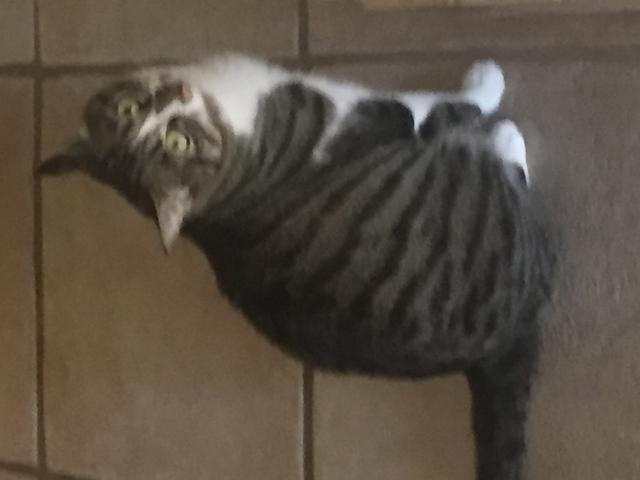playdoh: (34, 48, 556, 480)
